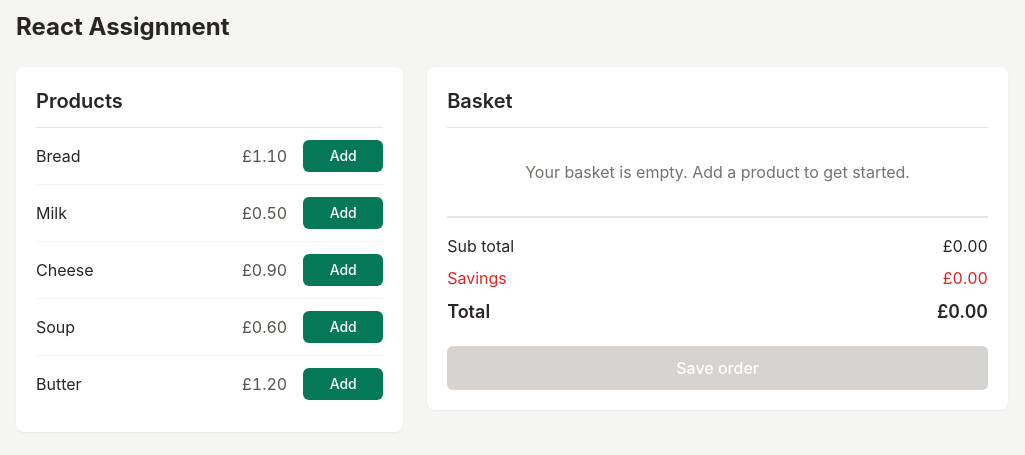
Test case: App › removes a product from basket with − button
This screenshot has width=1025, height=455.
Step 1. Click the button with aria-label "add bread" → point(343, 156), box x1=303 y1=140 x2=383 y2=172
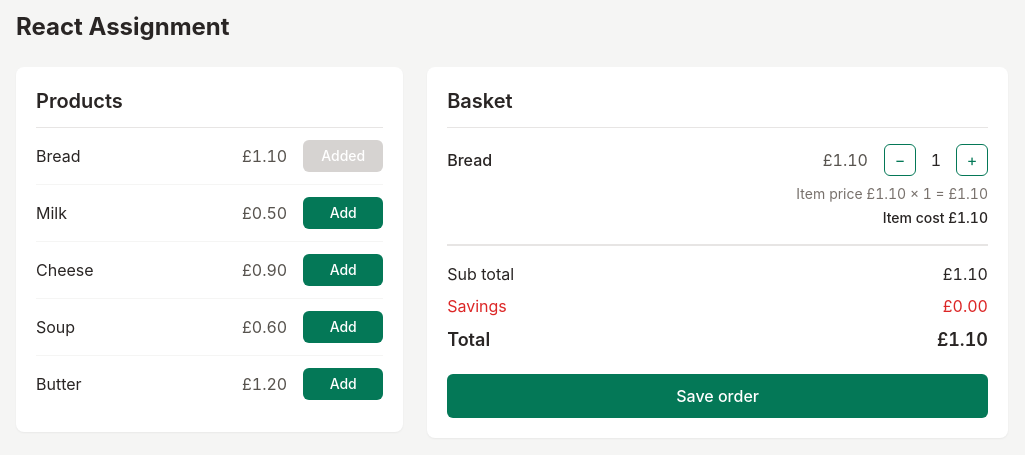
Step 2. Click the button named "remove one bread" → point(900, 160), box x1=884 y1=144 x2=916 y2=176
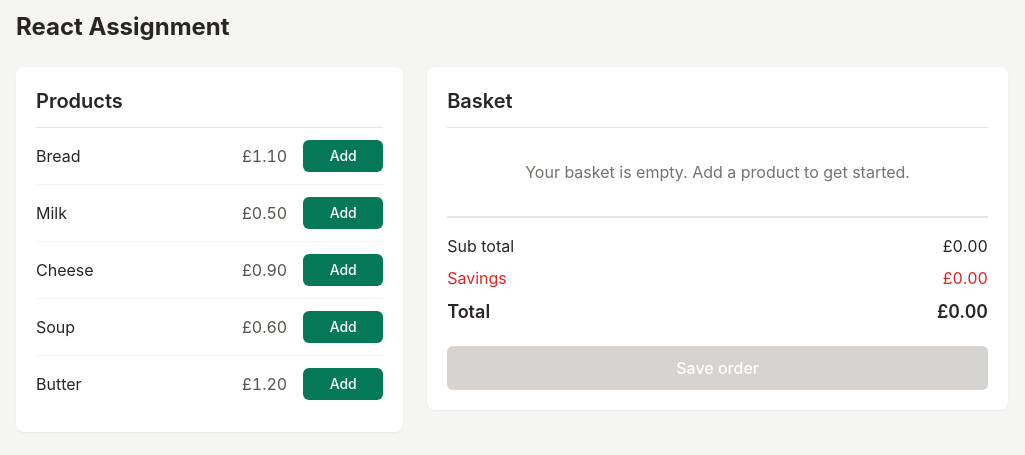
Now the text "Your basket is empty. Add a product to get started." is shown, box x1=525 y1=162 x2=910 y2=182
